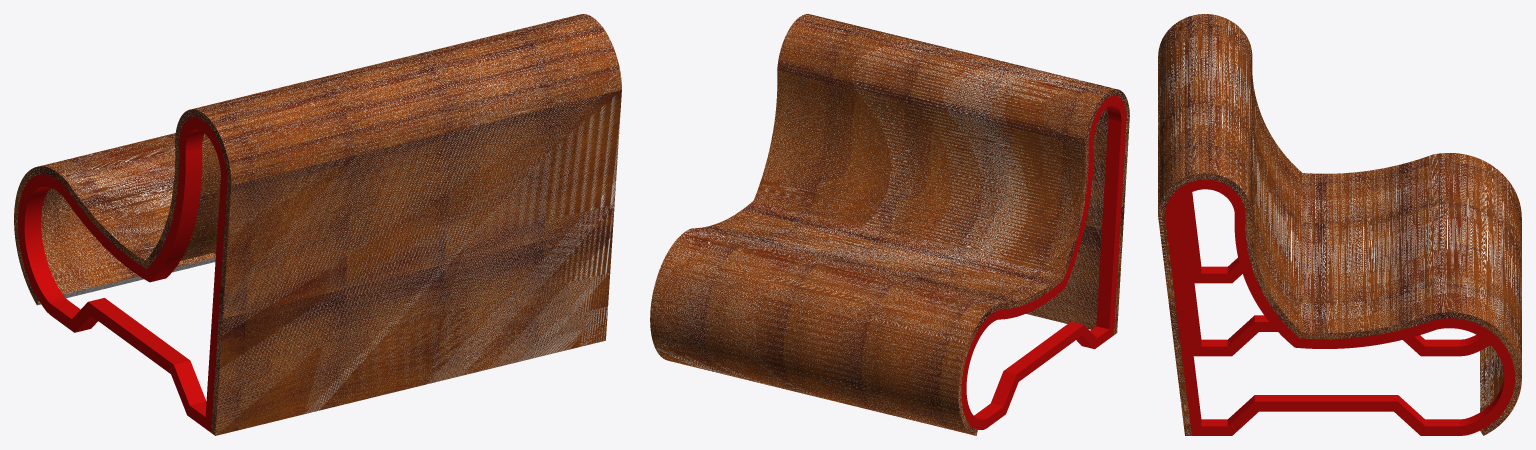
The picture shows the model from 3 angles, left to right: view 1: azimuth 30°, elevation 25°; view 2: azimuth 150°, elevation 25°; view 3: azimuth 270°, elevation 25°; orthographic projection. The views are drawn at different scales.
Visible parts, largest first — view 1: mesh1_mesh1-geometry, mesh2_mesh2-geometry; view 2: mesh1_mesh1-geometry, mesh2_mesh2-geometry; view 3: mesh1_mesh1-geometry, mesh2_mesh2-geometry.
Part boxes in pixels (left/top/right/bottom): mesh1_mesh1-geometry: left=14, top=14, right=621, bottom=435; mesh2_mesh2-geometry: left=18, top=117, right=227, bottom=432; mesh1_mesh1-geometry: left=650, top=14, right=1129, bottom=435; mesh2_mesh2-geometry: left=961, top=95, right=1126, bottom=429; mesh1_mesh1-geometry: left=1158, top=14, right=1521, bottom=435; mesh2_mesh2-geometry: left=1165, top=179, right=1514, bottom=435.
Size of the model in its own units: 0.63 by 0.4838 by 0.6075.
